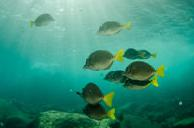Acanthuridae -Surgeonfishes-: (82, 45, 129, 74), (119, 57, 166, 83), (76, 81, 121, 107), (28, 9, 60, 27)
